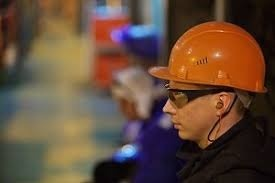helmet: (146, 20, 271, 95)
person with partial safety: (147, 23, 275, 170)
